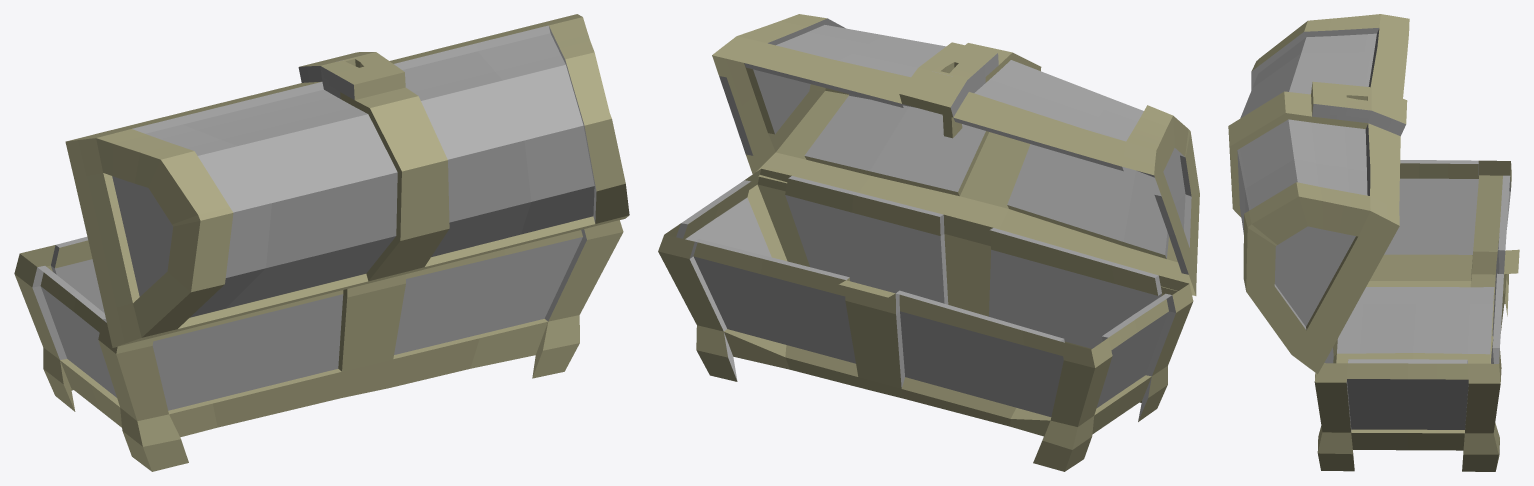
Rendered from open chest.fbx.
The picture shows the model from 3 angles, left to right: view 1: azimuth 30°, elevation 25°; view 2: azimuth 150°, elevation 25°; view 3: azimuth 270°, elevation 25°; orthographic projection. The views are drawn at different scales.
Parts seen in each view (by area): view 1: Chest_Top1; view 2: Chest_Top1; view 3: Chest_Top1.
Part boxes in pixels (box(x1,y1,x2,y2)): Chest_Top1: box(14, 14, 629, 471); Chest_Top1: box(658, 14, 1199, 471); Chest_Top1: box(1228, 14, 1519, 471).
Bounding box in the file's own units: 6.92 × 4.53 × 3.95.
